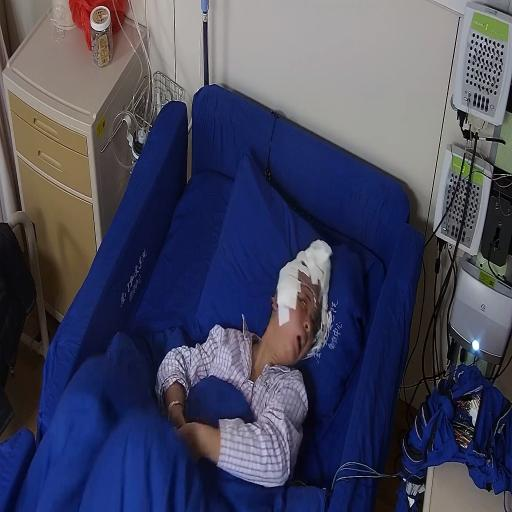Seizure: (268, 250, 322, 362)
